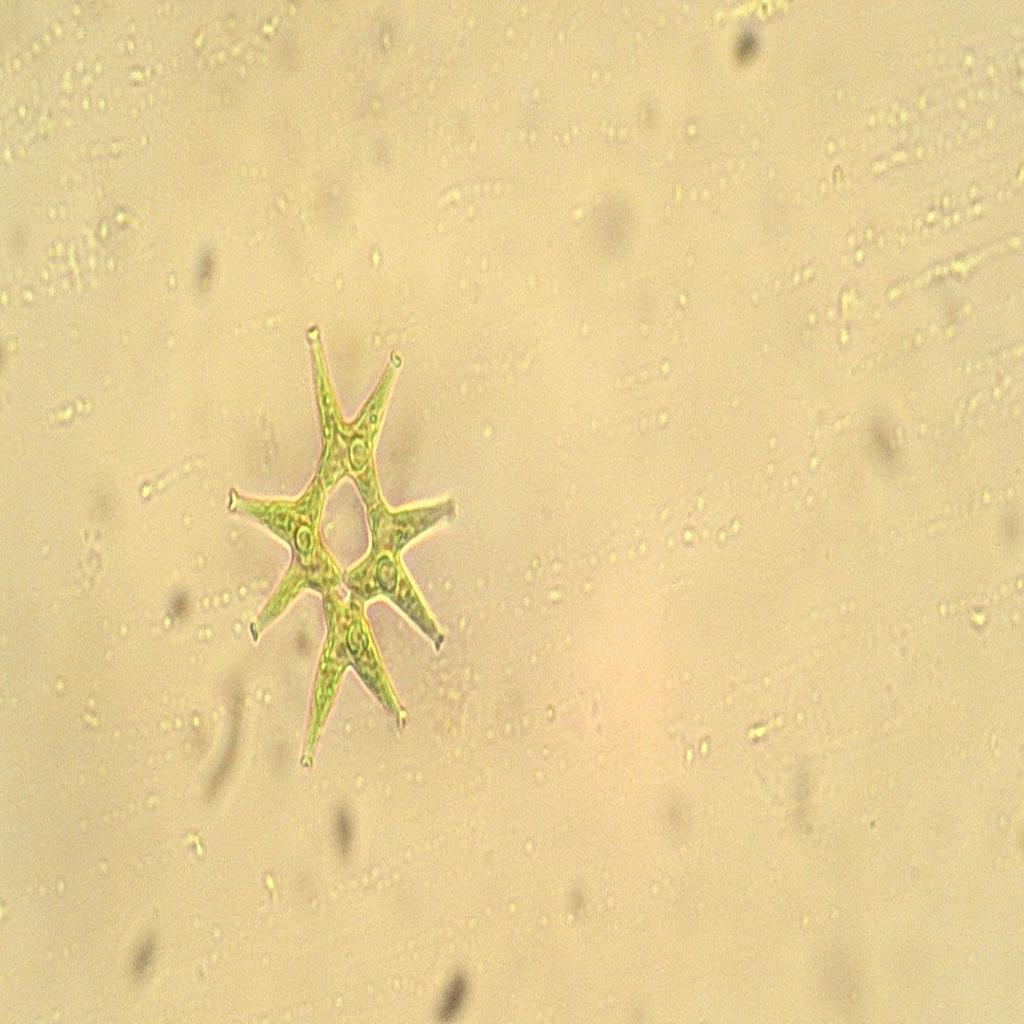Pediastrum_CF: (219, 290, 474, 794)
